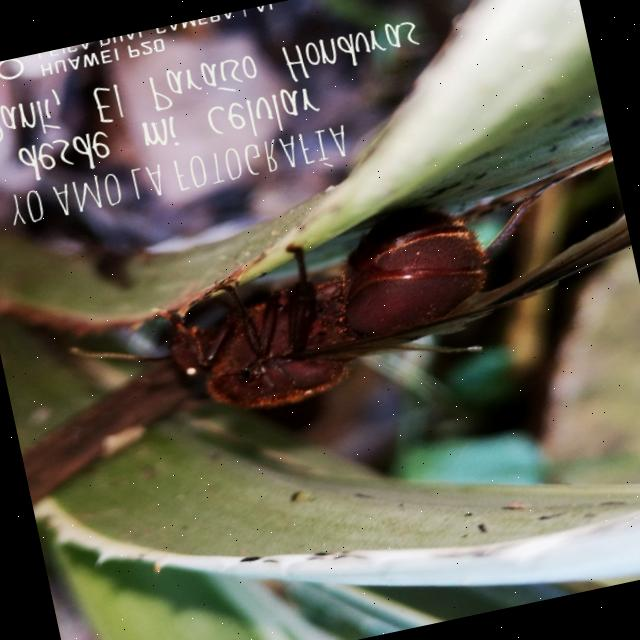Alive-Female-Alate: (0, 146, 640, 515)
